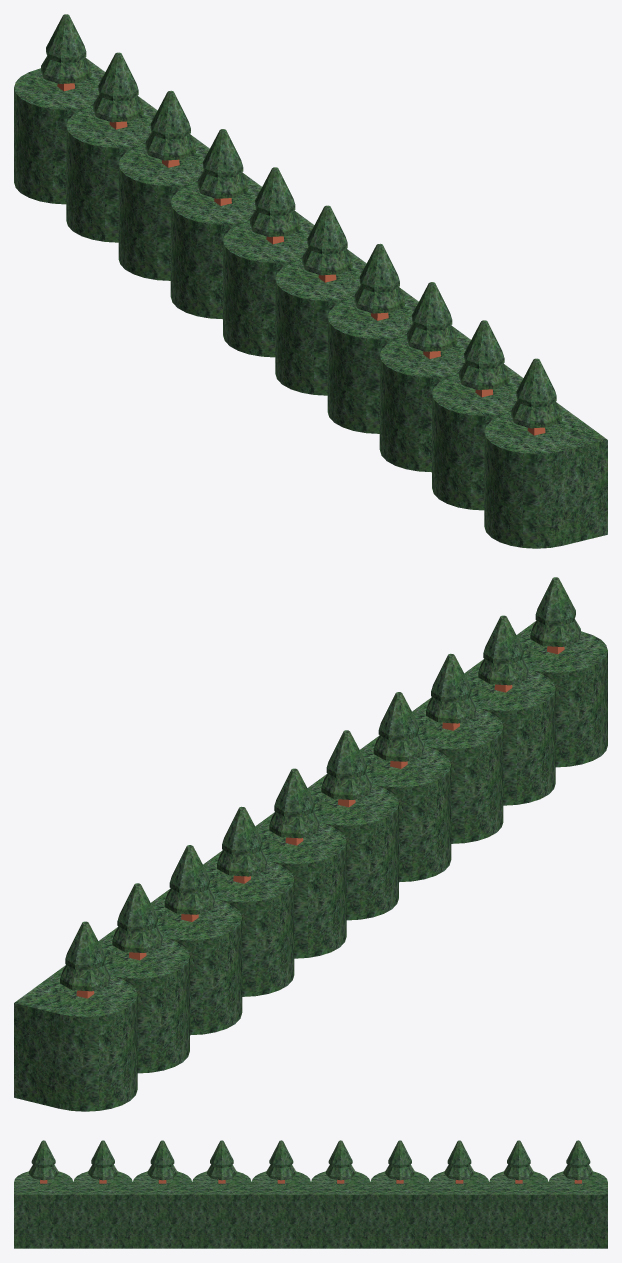
The model's file is TreeRow.fbx.
The picture shows the model from 3 angles, top to bottom: view 1: azimuth 30°, elevation 25°; view 2: azimuth 150°, elevation 25°; view 3: azimuth 270°, elevation 25°; orthographic projection. The views are drawn at different scales.
Visible parts, largest first — view 1: mergedBlocks; view 2: mergedBlocks; view 3: mergedBlocks.
Boxes of the visible parts, x1,y1,x2,y2 form: mergedBlocks: (14, 14, 607, 548); mergedBlocks: (14, 577, 607, 1111); mergedBlocks: (14, 1140, 607, 1248).
Bounding box in the file's own units: 10 × 17.6 × 100.
